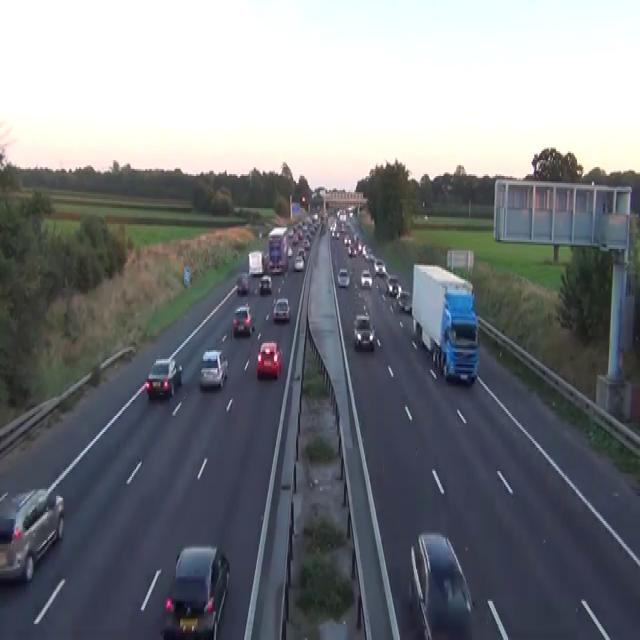Car: (409, 532, 473, 638), (161, 544, 230, 638), (0, 487, 64, 583), (146, 358, 182, 398), (199, 348, 228, 389), (256, 339, 281, 378), (353, 313, 375, 350), (232, 304, 252, 336), (272, 297, 290, 322), (397, 288, 411, 313), (385, 274, 399, 295), (236, 272, 248, 293), (259, 274, 272, 293), (360, 268, 372, 288), (337, 267, 349, 286), (374, 258, 385, 276), (362, 244, 372, 262), (293, 254, 304, 270), (336, 208, 346, 220), (348, 245, 356, 258), (297, 247, 305, 260), (319, 222, 326, 235), (302, 238, 310, 249), (441, 182, 452, 190), (343, 235, 351, 245), (347, 206, 354, 217), (331, 230, 339, 238), (287, 228, 293, 238), (287, 245, 292, 256), (312, 214, 318, 222), (258, 230, 262, 238)
Truck: (411, 261, 479, 384), (268, 226, 288, 274), (248, 249, 264, 275)
